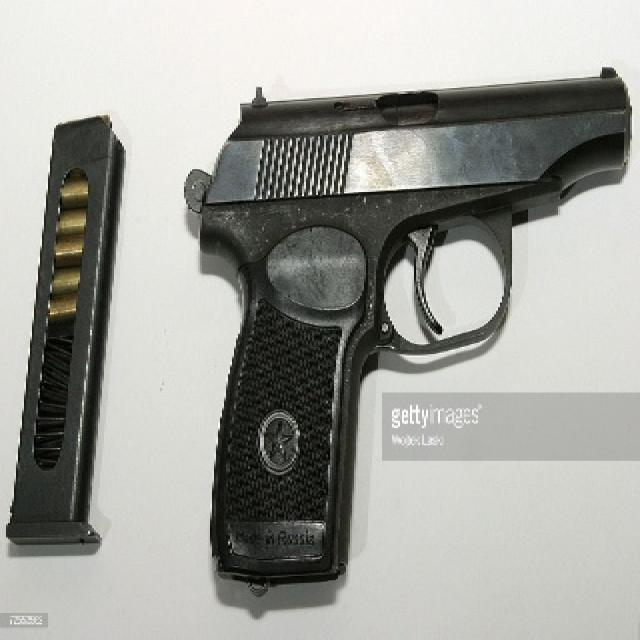handgun: (182, 67, 638, 584)
